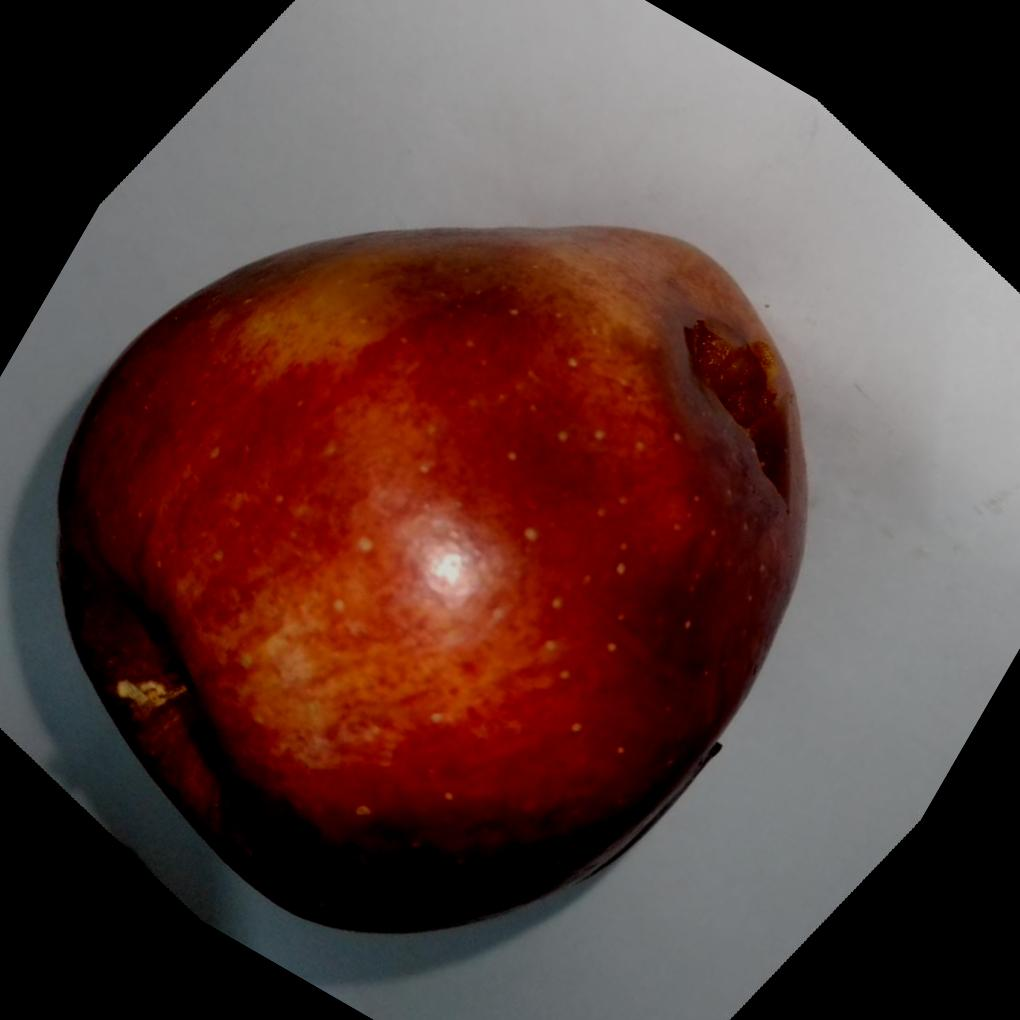FreshOrange: (55, 218, 810, 932)
